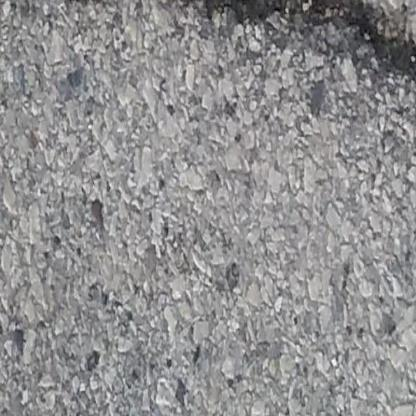Cracks: (158, 0, 416, 211), (50, 0, 113, 4)
